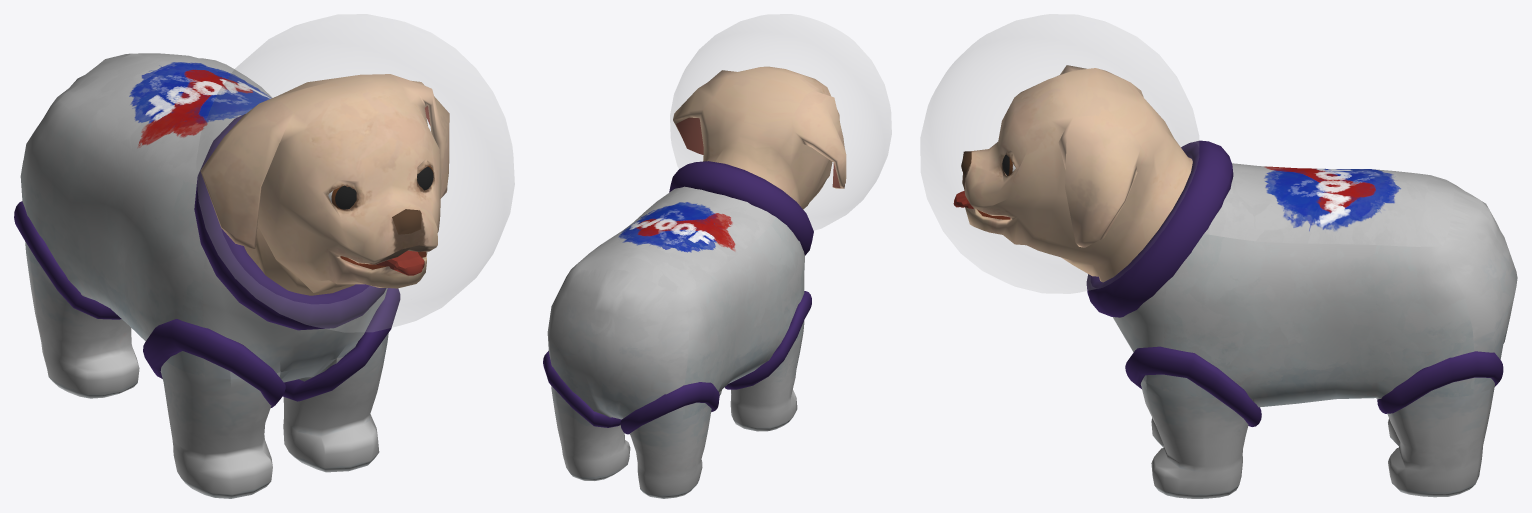
The model's file is puggle_v1.fbx.
3 renders of one model, left to right at view 1: azimuth 30°, elevation 25°; view 2: azimuth 150°, elevation 25°; view 3: azimuth 270°, elevation 25°, orthographic. The views are drawn at different scales.
Parts seen in each view (by area): view 1: body1, helmet, band_front_l1, collar, tongue; view 2: body1, helmet, band_front_l1, collar; view 3: body1, helmet, collar, band_front_l1.
Boxes of the visible parts, x1,y1,x2,y2 form: body1: (20,53,449,498); helmet: (196,14,514,332); band_front_l1: (14,201,400,407); collar: (194,114,386,330); tongue: (376,250,424,275); body1: (547,66,846,498); helmet: (670,14,891,230); band_front_l1: (543,291,811,434); collar: (669,161,813,255); body1: (961,65,1517,498); helmet: (920,14,1198,293); collar: (1086,140,1233,317); band_front_l1: (1125,346,1503,426).
Size of the model in its own units: 12.11 by 20.82 by 25.88.
5 materials, 2 textured.
